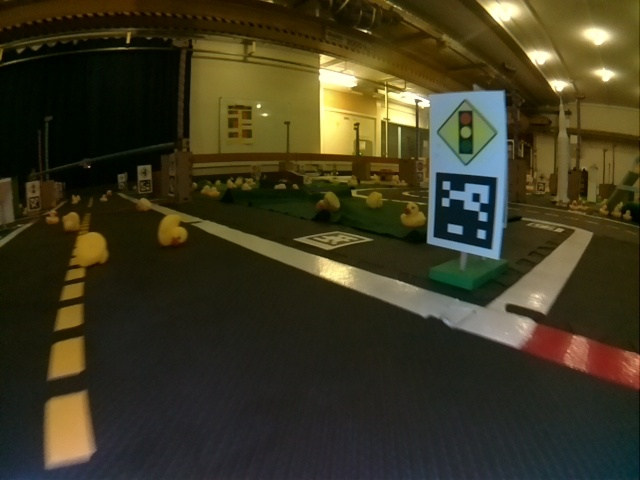Duckie: (76, 234, 108, 266), (158, 214, 187, 247), (401, 202, 426, 228), (317, 192, 339, 211), (62, 213, 81, 232), (45, 211, 59, 224), (137, 198, 151, 211)
QR code: (432, 173, 495, 250), (296, 232, 372, 248), (527, 220, 563, 235), (140, 180, 151, 192)
Signal sign: (437, 102, 496, 165)
